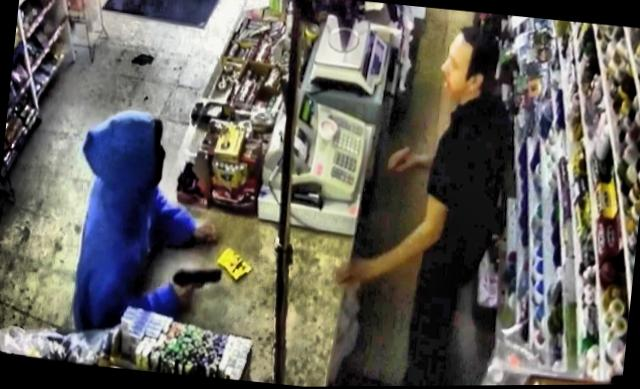pistol: (164, 258, 226, 309)
